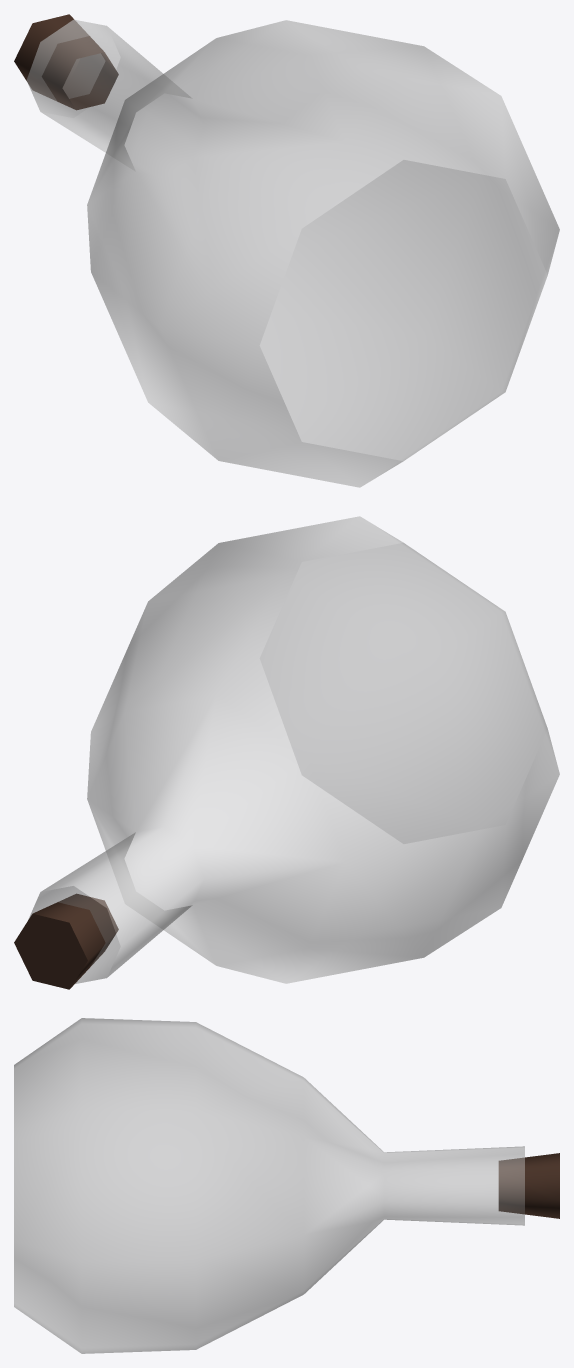
File: frascovacio.fbx
3 views of the same model, one above another, from view 1: azimuth 30°, elevation 25°; view 2: azimuth 150°, elevation 25°; view 3: azimuth 270°, elevation 25° (orthographic). The views are drawn at different scales.
Visible parts, largest first — view 1: Food_bottle5; view 2: Food_bottle5; view 3: Food_bottle5.
Part boxes in pixels (bbox=[...]): Food_bottle5: bbox=[14, 14, 559, 487]; Food_bottle5: bbox=[14, 516, 559, 989]; Food_bottle5: bbox=[14, 1018, 559, 1353].
Size of the model in its own units: 25.83 by 25.82 by 39.44.
